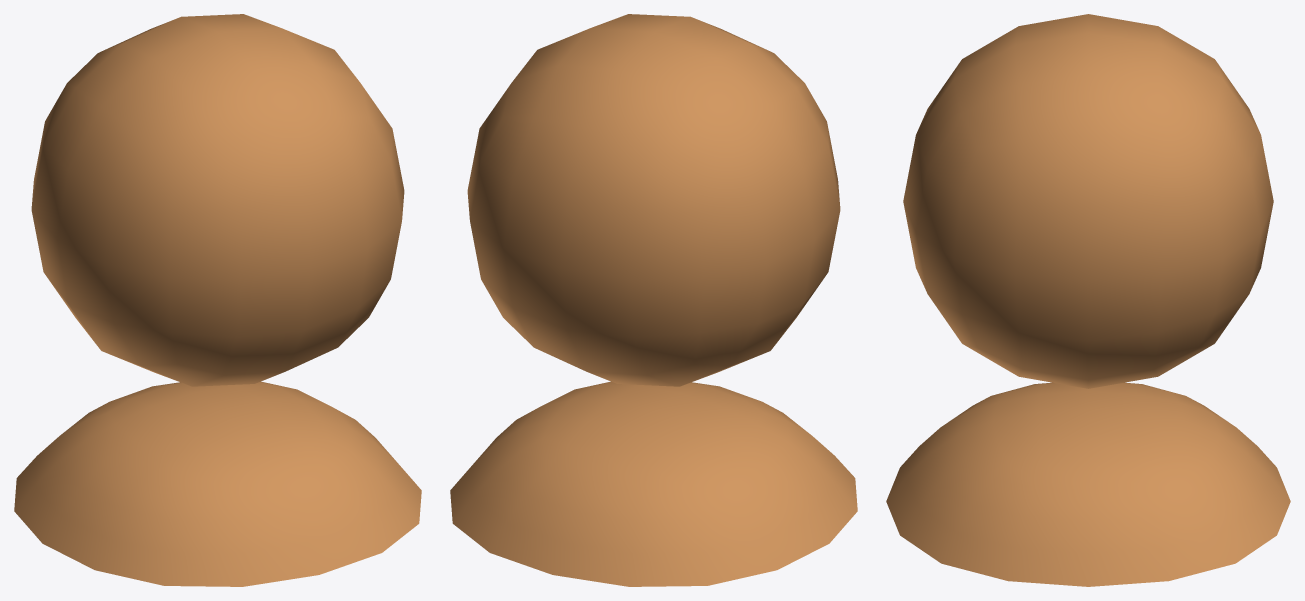
The model's file is stand.fbx.
3 renders of one model, left to right at view 1: azimuth 30°, elevation 25°; view 2: azimuth 150°, elevation 25°; view 3: azimuth 270°, elevation 25°, orthographic.
Visible parts, largest first — view 1: stand; view 2: stand; view 3: stand.
Boxes of the visible parts, x1,y1,x2,y2 form: stand: (14,14,421,586); stand: (450,14,857,586); stand: (886,14,1290,586).
Bounding box in the file's own units: 128 × 164 × 128.
